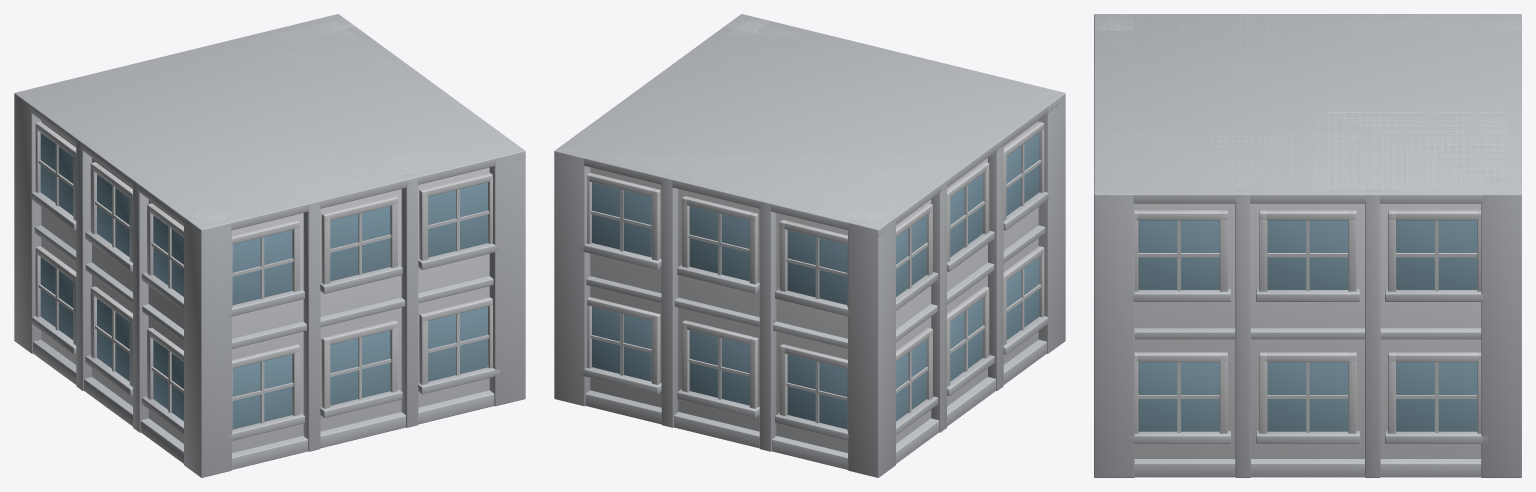
The model's file is th7_hochhaus_modul.glb.
3 views of the same model, side by side, from view 1: azimuth 30°, elevation 25°; view 2: azimuth 150°, elevation 25°; view 3: azimuth 270°, elevation 25° (orthographic). The views are drawn at different scales.
Visible parts, largest first — view 1: Cube.183, Cube, Cube.001, Cube.003, Cube.182, Cube.002, Cube.093, Cube.094, Cube.181, Cube.138, Cube.102, Cube.123 (+37 smaller); view 2: Cube.183, Cube, Cube.002, Cube.004, Cube.182, Cube.001, Cube.006, Cube.005, Cube.181, Cube.137, Cube.014, Cube.035 (+37 smaller); view 3: Cube.183, Cube, Cube.003, Cube.004, Cube.182, Cube.058, Cube.079, Cube.051, Cube.065, Cube.072, Cube.086, Cube.049 (+24 smaller).
Boxes of the visible parts, x1,y1,x2,y2 form: Cube.183: (14, 14, 525, 236); Cube: (41, 21, 489, 452); Cube.001: (184, 214, 231, 477); Cube.003: (489, 142, 525, 406); Cube.182: (33, 339, 494, 469); Cube.002: (14, 94, 41, 353); Cube.093: (401, 174, 418, 427); Cube.094: (303, 200, 320, 451); Cube.181: (34, 225, 493, 348); Cube.138: (76, 138, 91, 390); Cube.102: (330, 330, 390, 405); Cube.123: (330, 206, 390, 281); Cube.183: (554, 14, 1065, 236); Cube: (590, 21, 1038, 452); Cube.002: (848, 214, 895, 477); Cube.004: (554, 144, 592, 406); Cube.182: (585, 339, 1046, 469); Cube.001: (1038, 94, 1065, 353); Cube.006: (661, 173, 678, 427); Cube.005: (759, 201, 776, 451); Cube.181: (586, 225, 1045, 348); Cube.137: (988, 138, 1003, 390); Cube.014: (689, 330, 749, 405); Cube.035: (689, 206, 749, 281); Cube.183: (1094, 14, 1521, 203); Cube: (1108, 19, 1508, 458); Cube.003: (1094, 177, 1134, 477); Cube.004: (1481, 178, 1521, 477); Cube.182: (1134, 459, 1481, 477); Cube.058: (1267, 362, 1348, 431); Cube.079: (1267, 220, 1348, 289); Cube.051: (1396, 362, 1477, 431); Cube.065: (1138, 362, 1219, 431); Cube.072: (1396, 220, 1477, 289); Cube.086: (1138, 220, 1219, 289); Cube.049: (1365, 189, 1380, 477).
Bounding box in the file's own units: 8.2 × 6 × 8.2.
